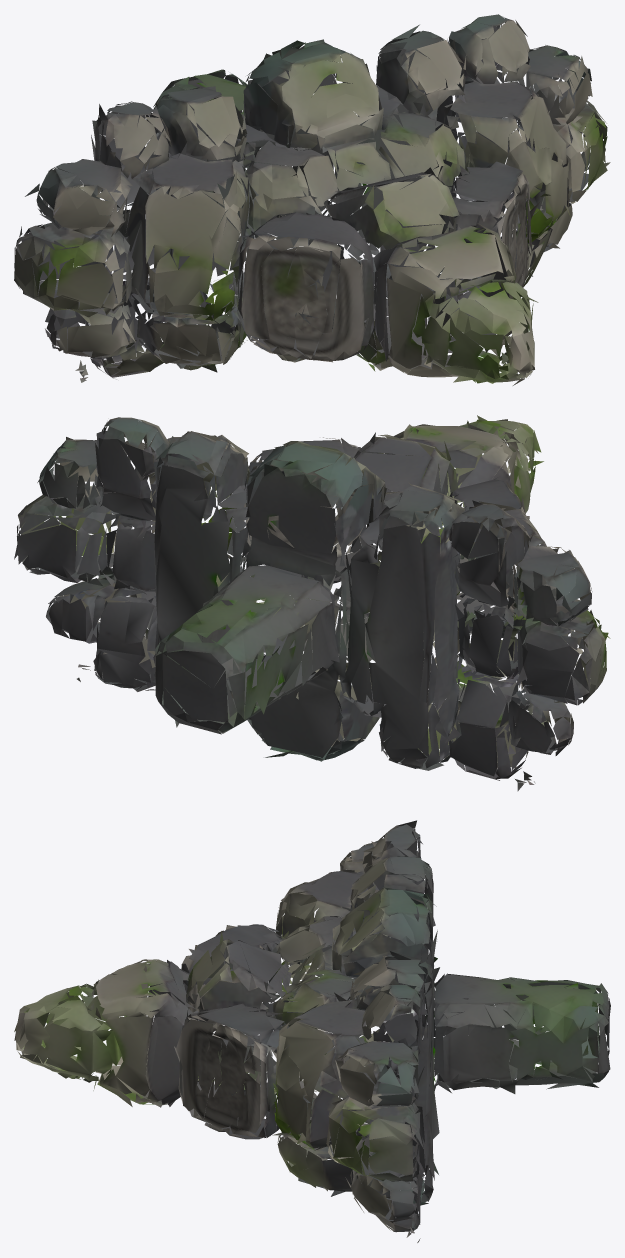
Rendered from Lab_Rubble.glb.
3 renders of one model, top to bottom at view 1: azimuth 30°, elevation 25°; view 2: azimuth 150°, elevation 25°; view 3: azimuth 270°, elevation 25°, orthographic. The views are drawn at different scales.
Parts seen in each view (by area): view 1: Lab_Rubble; view 2: Lab_Rubble; view 3: Lab_Rubble.
Boxes of the visible parts, x1,y1,x2,y2 form: Lab_Rubble: (14, 14, 610, 385); Lab_Rubble: (14, 415, 610, 791); Lab_Rubble: (14, 820, 610, 1242).
Bounding box in the file's own units: 1.42 × 0.7055 × 1.42.
1 material, 1 textured.
